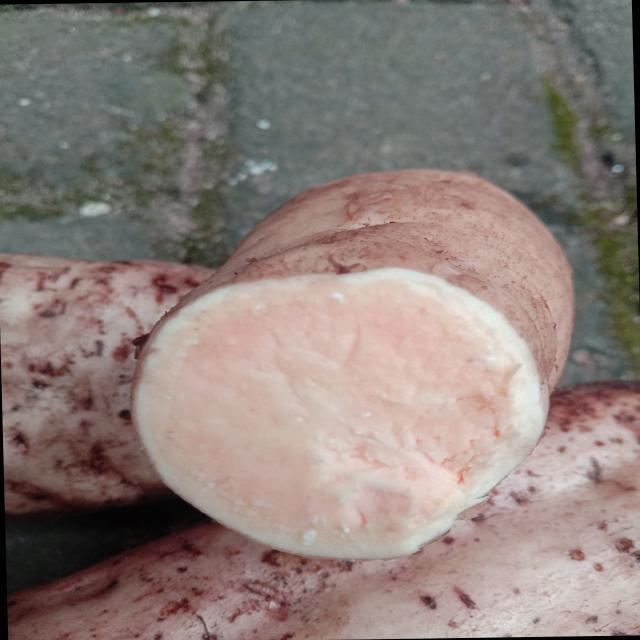Healthy Sweet Potato: (133, 269, 545, 559)
